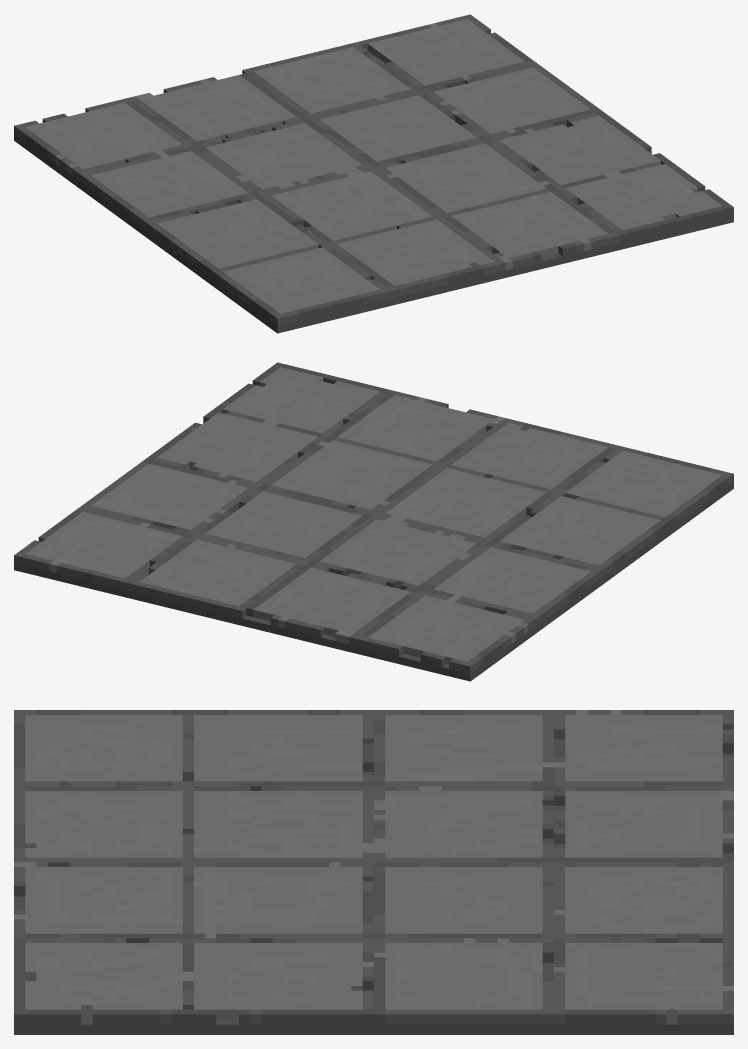
File: MapFinalV1-69.obj
3 renders of one model, top to bottom at view 1: azimuth 30°, elevation 25°; view 2: azimuth 150°, elevation 25°; view 3: azimuth 270°, elevation 25°, orthographic. The views are drawn at different scales.
Size of the model in its own units: 6.4 by 0.2 by 6.4.
Materials: 1 (1 with a texture image).
